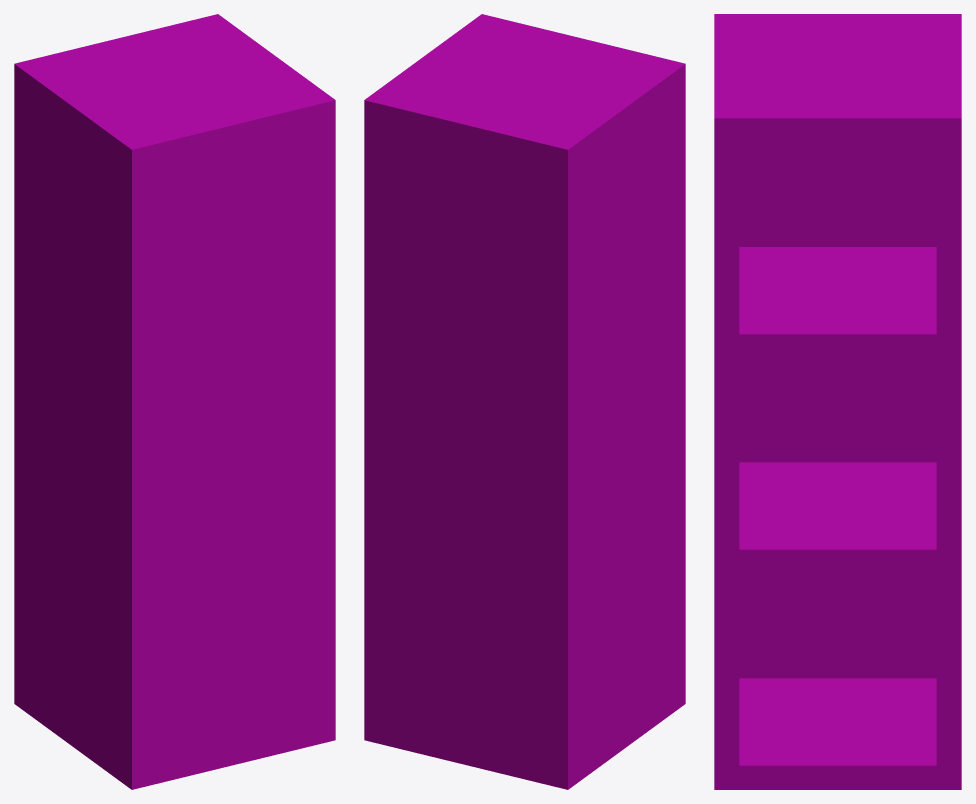
The model's file is brina.fbx.
3 renders of one model, left to right at view 1: azimuth 30°, elevation 25°; view 2: azimuth 150°, elevation 25°; view 3: azimuth 270°, elevation 25°, orthographic. The views are drawn at different scales.
Parts seen in each view (by area): view 1: Shelf; view 2: Shelf; view 3: Shelf.
Boxes of the visible parts, bbox=[...] form: Shelf: bbox=[14, 14, 335, 789]; Shelf: bbox=[364, 14, 685, 789]; Shelf: bbox=[714, 14, 961, 789].
Bounding box in the file's own units: 10 × 30 × 10.
